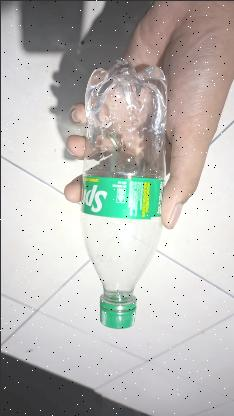Plastic Bottle: (79, 58, 167, 332)
